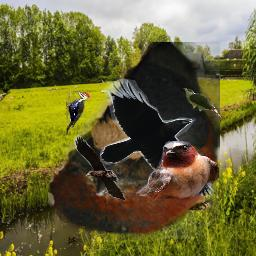Crow: (100, 78, 215, 196), (74, 135, 126, 201)
Cuckoo: (183, 88, 223, 119)
Swallow: (48, 42, 220, 239), (136, 141, 219, 210)
Woodpecker: (66, 91, 93, 135)
